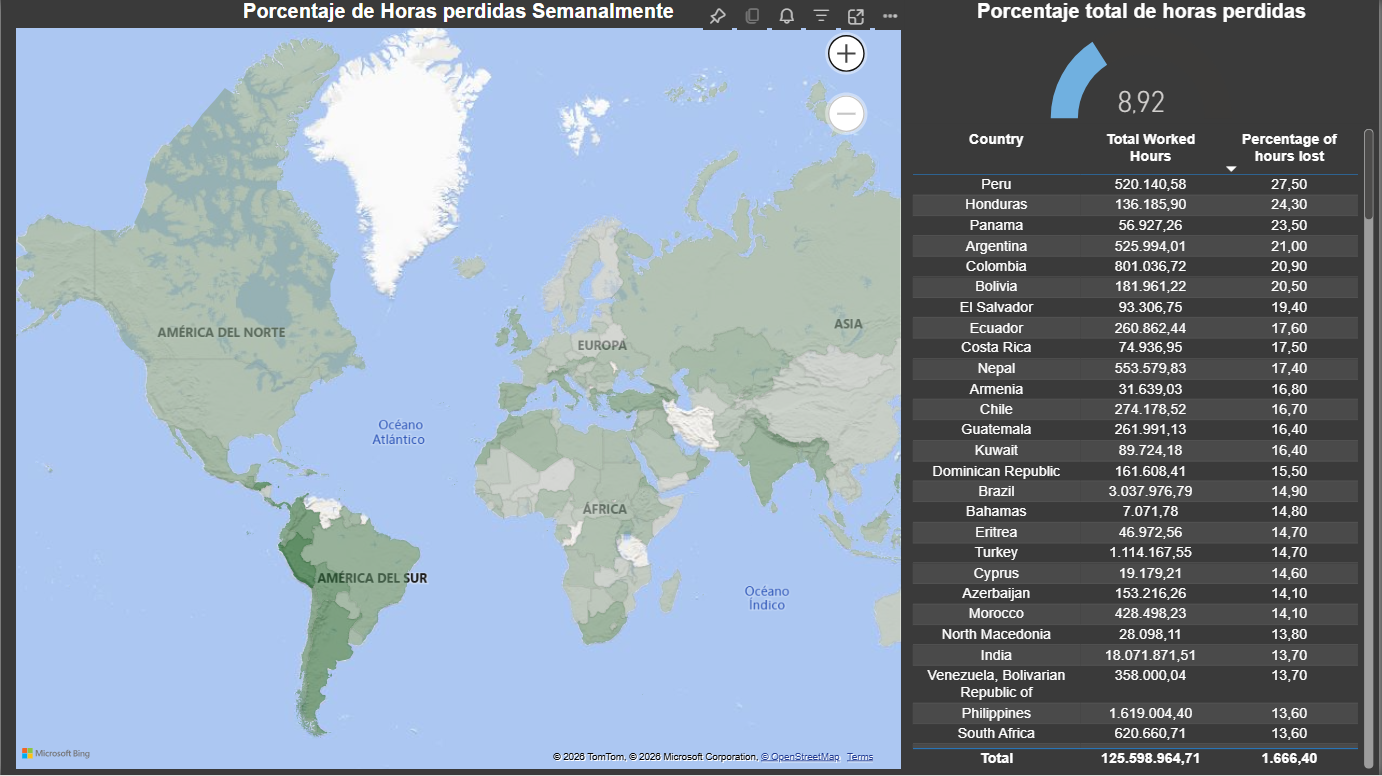

The page's visual inventory and layout, read from the dashboard file:
{"tool":"powerbi","page":{"name":"Countries","canvas":[1280,720],"ordinal":0},"visuals":[{"type":"filledMap","title":"Porcentaje de Horas perdidas Semanalmente","fields":{"Category":["Covid_employment_data1.Country"]},"box":[9.7,0,831.2,719.4],"z":0},{"type":"gauge","title":"Porcentaje total de horas perdidas","fields":{"Y":["Avg(Covid_employment_data1.Percentage_of_Working_hrs_Lost)"]},"box":[840,0,440,115],"z":1000},{"type":"tableEx","fields":{"Values":["Covid_employment_data1.Paises","Sum(Covid_employment_data1.Total_Weekly_Hours_Worked_Thousands)","Sum(Covid_employment_data1.Percentage_of_Working_hrs_Lost)"]},"box":[840.4,114.9,439.6,603.9],"z":2000}]}

Visuals, with their boxes on the page's 1280x720 design canvas (x1, y1, x2, y2). These are canvas units, not pixel positions in the 1382x776 screenshot, which may show the page scaled, cropped or inside an application window:
"Porcentaje de Horas perdidas Semanalmente" filledMap: (10,0,841,719)
"Porcentaje total de horas perdidas" gauge: (840,0,1280,115)
tableEx - Covid_employment_data1.Paises x Sum(Covid_employment_data1.Total_Weekly_Hours_Worked_Thousands): (840,115,1280,719)
